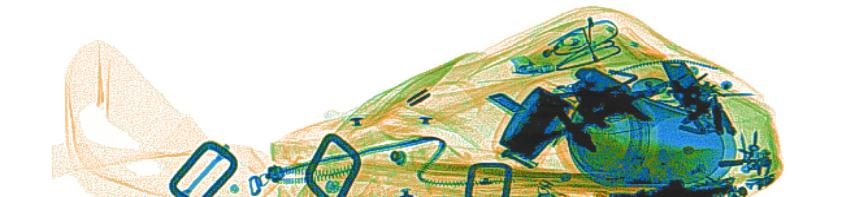lighter: (518, 26, 590, 74)
